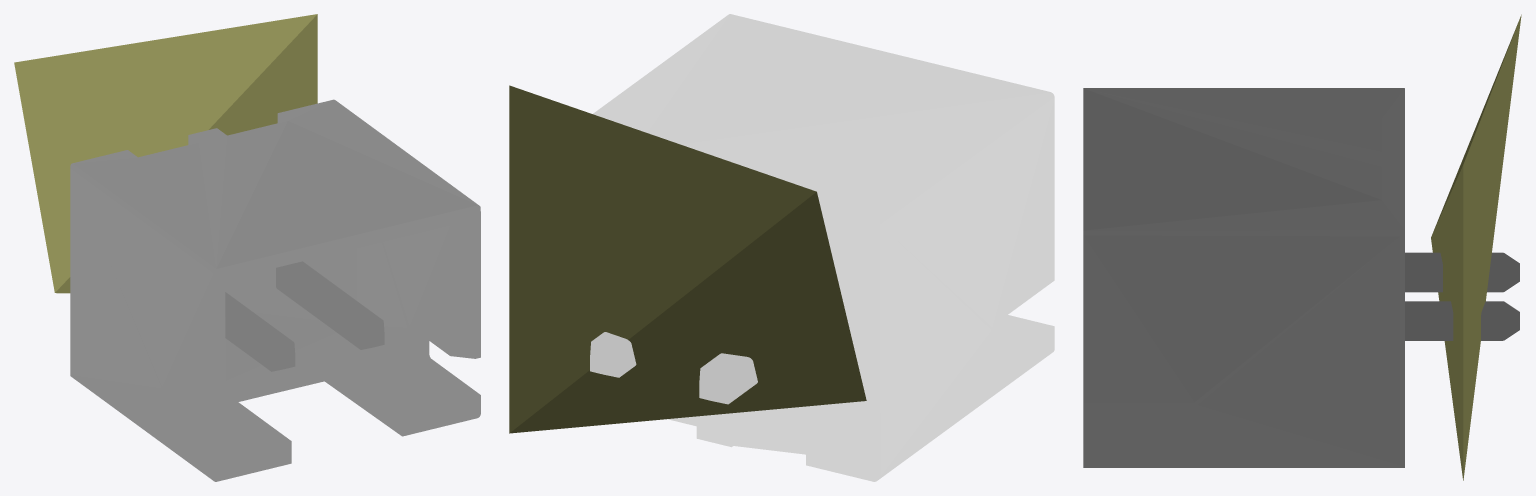
The model's file is 2 Pin Header.obj.
The picture shows the model from 3 angles, left to right: view 1: azimuth 30°, elevation 25°; view 2: azimuth 150°, elevation 25°; view 3: azimuth 270°, elevation 25°; orthographic projection. The views are drawn at different scales.
Size of the model in its own units: 30.6 by 29.98 by 37.56.
